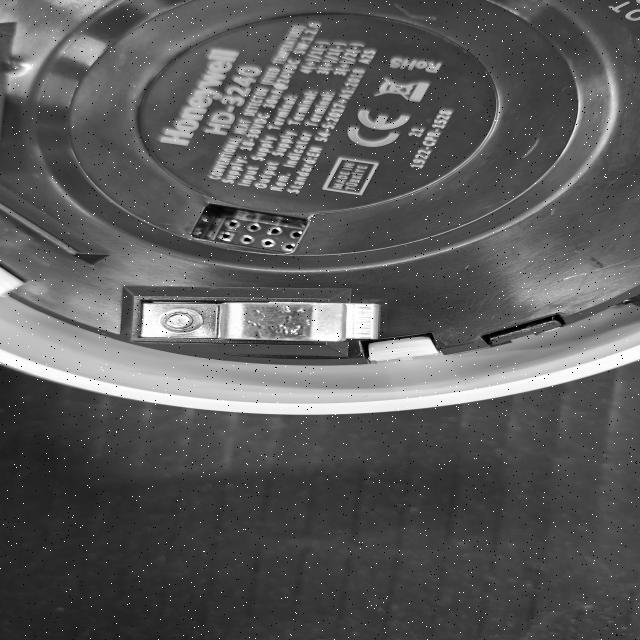yayli: (117, 285, 394, 353)
